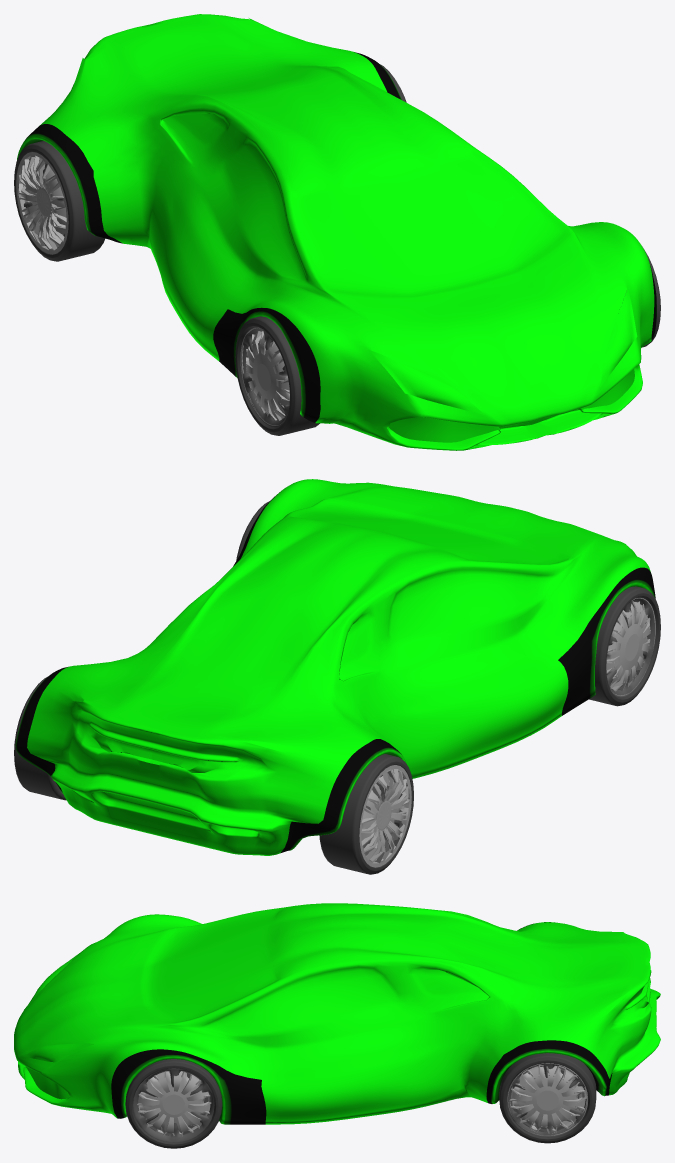
Rendered from Car_4JantBaseMesh.fbx.
3 views of the same model, one above another, from view 1: azimuth 30°, elevation 25°; view 2: azimuth 150°, elevation 25°; view 3: azimuth 270°, elevation 25° (orthographic). The views are drawn at different scales.
Parts seen in each view (by area): view 1: Case, tiretest (×2), Jantepic_Rback, Jant:RFrontuncommon, Jantrare_rback1, Jantrare_rfront, Lfront_jant2; view 2: Case, tiretest (×3), Jantepic_Rback, Jant:RFrontuncommon, Jantrare_rback1, Jantrare_rfront, Lfront_jant2; view 3: Case, tiretest, tire, Jant:LBackuncommon, Jantrare_lback, Jantrare_lfront, Lfront_jant, Jant:LFrontuncommon, Lfront_jant1, Jantepic_Lback.
Part boxes in pixels (x1,y1,x2,y2): Case: (17, 14, 656, 450); tiretest (×2): (14, 141, 319, 435); Jantepic_Rback: (16, 152, 68, 254); Jant:RFrontuncommon: (240, 327, 289, 425); Jantrare_rback1: (21, 157, 66, 247); Jantrare_rfront: (245, 333, 289, 418); Lfront_jant2: (242, 327, 289, 427); Case: (15, 479, 655, 855); tiretest (×3): (14, 586, 660, 874); Jantepic_Rback: (359, 765, 411, 867); Jant:RFrontuncommon: (606, 598, 655, 696); Jantrare_rback1: (361, 768, 406, 860); Jantrare_rfront: (606, 602, 650, 689); Lfront_jant2: (606, 597, 655, 697); Case: (14, 903, 660, 1124); tiretest: (499, 1053, 596, 1143); tire: (125, 1059, 222, 1148); Jant:LBackuncommon: (507, 1063, 587, 1136); Jantrare_lback: (511, 1065, 585, 1131); Jantrare_lfront: (138, 1071, 210, 1135); Lfront_jant: (133, 1068, 214, 1142); Jant:LFrontuncommon: (140, 1071, 207, 1133); Lfront_jant1: (507, 1063, 588, 1137); Jantepic_Lback: (509, 1065, 586, 1133).
Bounding box in the file's own units: 168 × 82.91 × 319.
